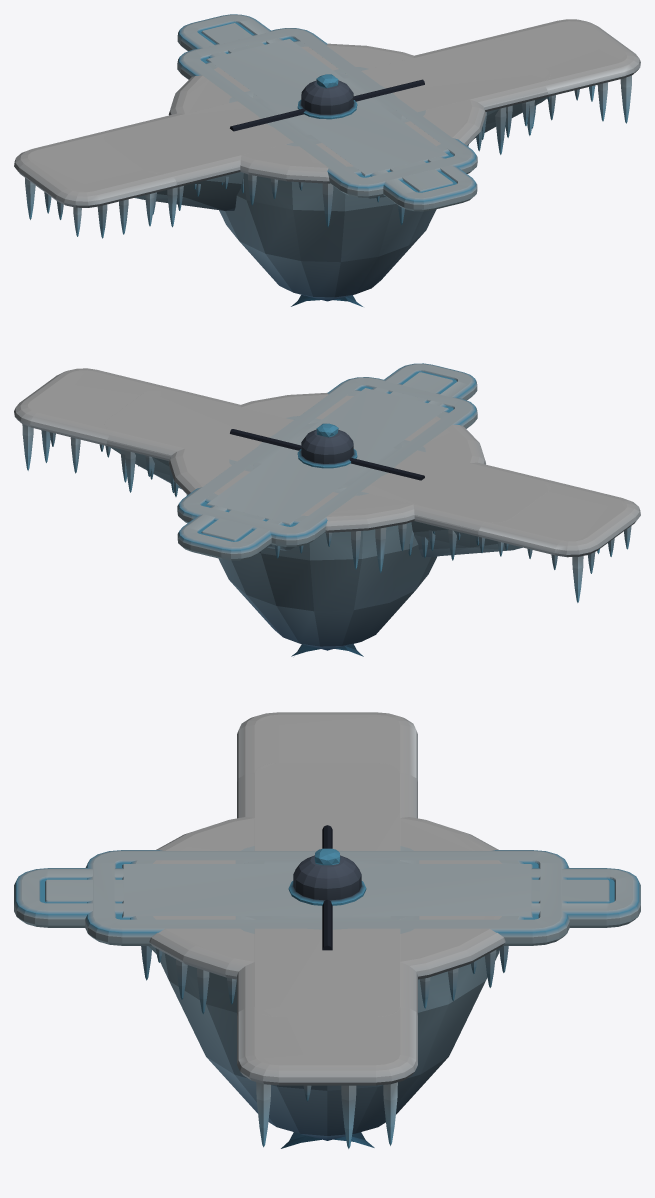
The model's file is glacier-3-BczGCqVP.glb.
3 views of the same model, one above another, from view 1: azimuth 30°, elevation 25°; view 2: azimuth 150°, elevation 25°; view 3: azimuth 270°, elevation 25° (orthographic). The views are drawn at different scales.
Parts seen in each view (by area): view 1: disc_14x1.5#0, block_30x2x6_grate#0, block_7x2x17_ice#1, block_22x2x6#1, block_4x20x22_ice#1, barHub_11x1.2#0, block_5.5x2x7_ice#1; view 2: disc_14x1.5#0, block_7x2x17_ice#1, block_22x2x6#1, block_30x2x6_grate#0, block_4x20x22_ice#1, barHub_11x1.2#0, block_5.5x2x7_ice#1; view 3: block_7x2x17_ice#1, disc_14x1.5#0, block_22x2x6#1, block_30x2x6_grate#0, block_4x20x22_ice#1, barHub_11x1.2#0, block_5.5x2x7_ice#1.
Boxes of the visible parts, bbox=[...] form: disc_14x1.5#0: bbox=[168, 43, 486, 301]; block_30x2x6_grate#0: bbox=[14, 19, 640, 238]; block_7x2x17_ice#1: bbox=[177, 28, 477, 198]; block_22x2x6#1: bbox=[104, 39, 550, 214]; block_4x20x22_ice#1: bbox=[177, 14, 477, 211]; barHub_11x1.2#0: bbox=[230, 74, 424, 131]; block_5.5x2x7_ice#1: bbox=[253, 73, 401, 140]; disc_14x1.5#0: bbox=[169, 392, 485, 650]; block_7x2x17_ice#1: bbox=[177, 377, 477, 550]; block_22x2x6#1: bbox=[104, 388, 550, 560]; block_30x2x6_grate#0: bbox=[14, 368, 640, 602]; block_4x20x22_ice#1: bbox=[177, 363, 477, 560]; barHub_11x1.2#0: bbox=[230, 423, 424, 480]; block_5.5x2x7_ice#1: bbox=[253, 422, 401, 489]; block_7x2x17_ice#1: bbox=[85, 850, 569, 958]; disc_14x1.5#0: bbox=[141, 817, 508, 1140]; block_22x2x6#1: bbox=[237, 763, 417, 1016]; block_30x2x6_grate#0: bbox=[237, 712, 417, 1148]; block_4x20x22_ice#1: bbox=[14, 868, 640, 927]; barHub_11x1.2#0: bbox=[288, 825, 366, 950]; block_5.5x2x7_ice#1: bbox=[244, 860, 410, 919].
Bounding box in the file's own units: 30.36 × 12.04 × 22.
